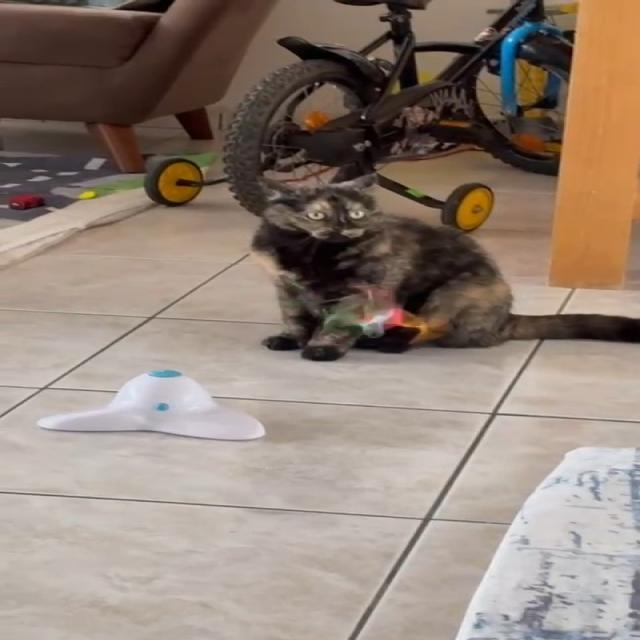authorized: (248, 172, 639, 361)
